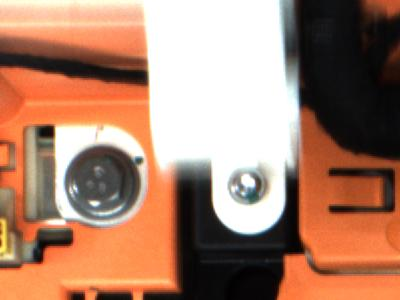nut_b: (64, 144, 140, 218)
